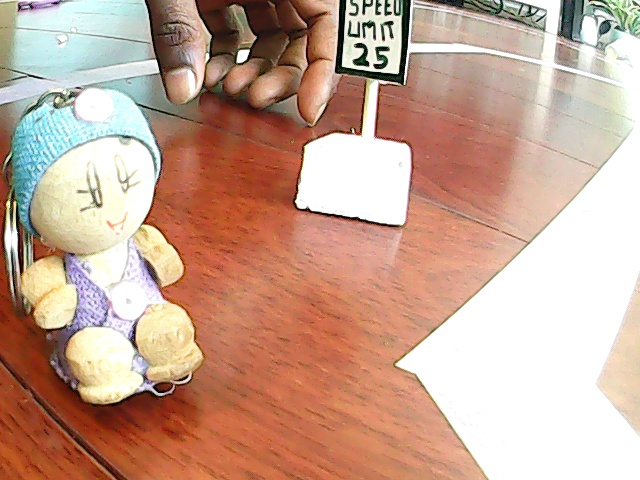pedestrain: (1, 90, 218, 379)
speed_25: (305, 1, 429, 230)
